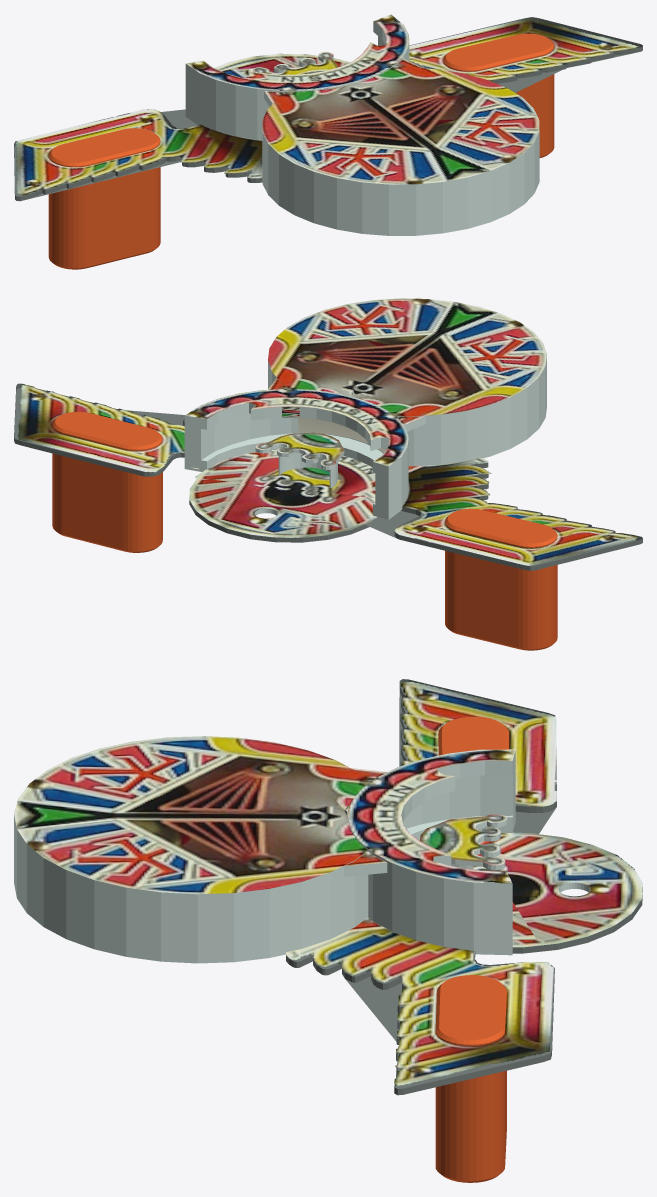
File: jack_pot.fbx
3 renders of one model, top to bottom at view 1: azimuth 30°, elevation 25°; view 2: azimuth 150°, elevation 25°; view 3: azimuth 270°, elevation 25°, orthographic. The views are drawn at different scales.
Parts seen in each view (by area): view 1: Cylinder.007, Plane.004, Cylinder.010, Cylinder.009, BézierCircle.051, Jackpot.001; view 2: Cylinder.007, Plane.004, Cylinder.010, Cylinder.009, BézierCircle.051, Jackpot.001; view 3: Cylinder.007, Plane.004, BézierCircle.051, Cylinder.009, Jackpot.001, Cylinder.010.
Boxes of the visible parts, left/top/right/bottom form: Cylinder.007: left=185, top=14, right=539, bottom=235; Plane.004: left=14, top=17, right=642, bottom=201; Cylinder.010: left=48, top=128, right=160, bottom=269; Cylinder.009: left=443, top=33, right=554, bottom=157; BézierCircle.051: left=214, top=53, right=349, bottom=77; Jackpot.001: left=253, top=51, right=338, bottom=74; Cylinder.007: left=184, top=298, right=546, bottom=519; Plane.004: left=14, top=383, right=642, bottom=570; Cylinder.010: left=445, top=508, right=557, bottom=650; Cylinder.009: left=52, top=411, right=162, bottom=552; BézierCircle.051: left=189, top=478, right=376, bottom=542; Jackpot.001: left=255, top=432, right=344, bottom=488; Cylinder.007: left=14, top=736, right=515, bottom=963; Plane.004: left=286, top=679, right=556, bottom=1095; BézierCircle.051: left=480, top=832, right=642, bottom=953; Cylinder.009: left=435, top=975, right=506, bottom=1182; Jackpot.001: left=420, top=814, right=507, bottom=870; Cylinder.010: left=438, top=716, right=509, bottom=755.
Size of the model in its own units: 80.08 by 18.86 by 51.92.
